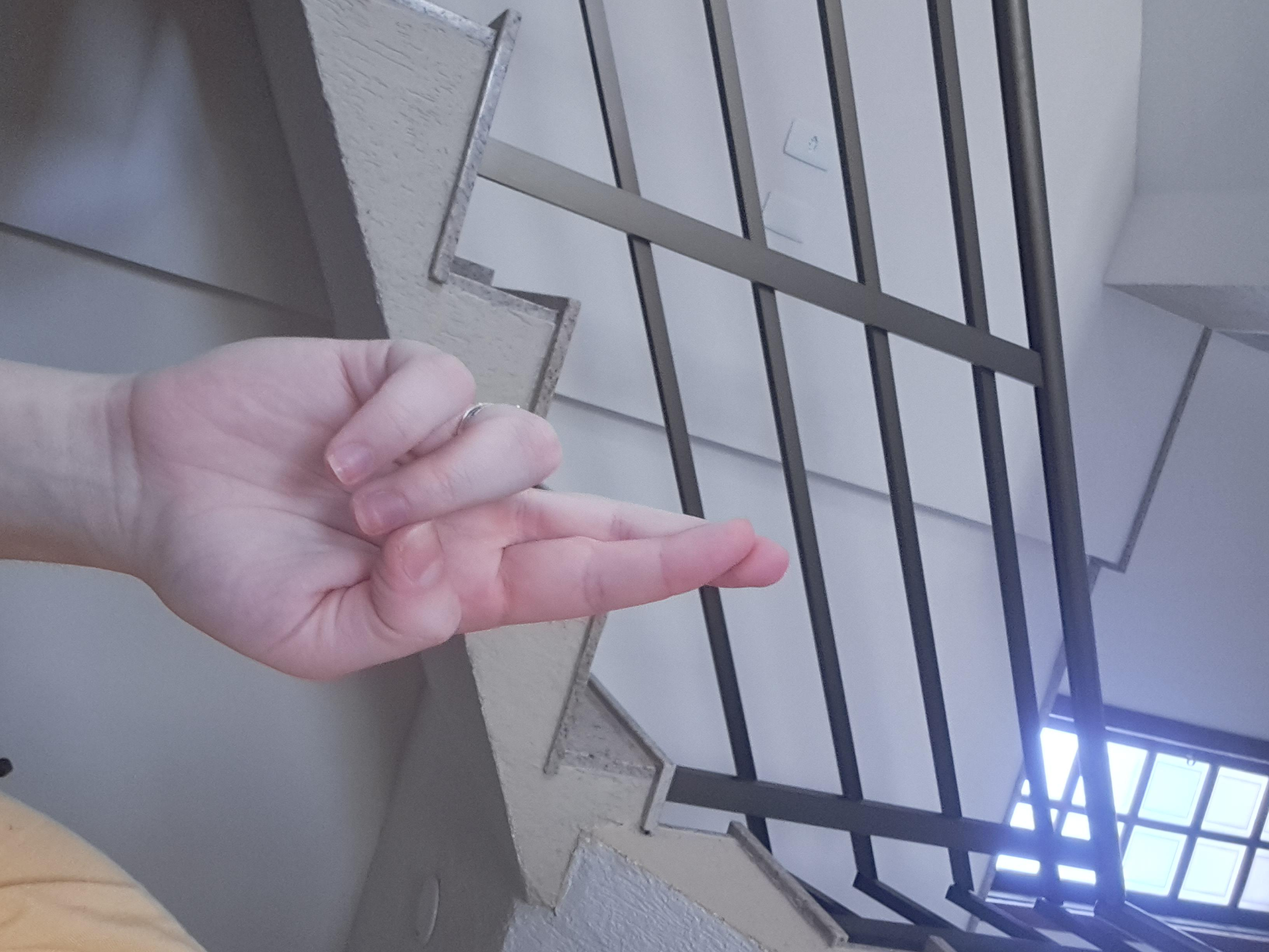R: (425, 356, 923, 860)
